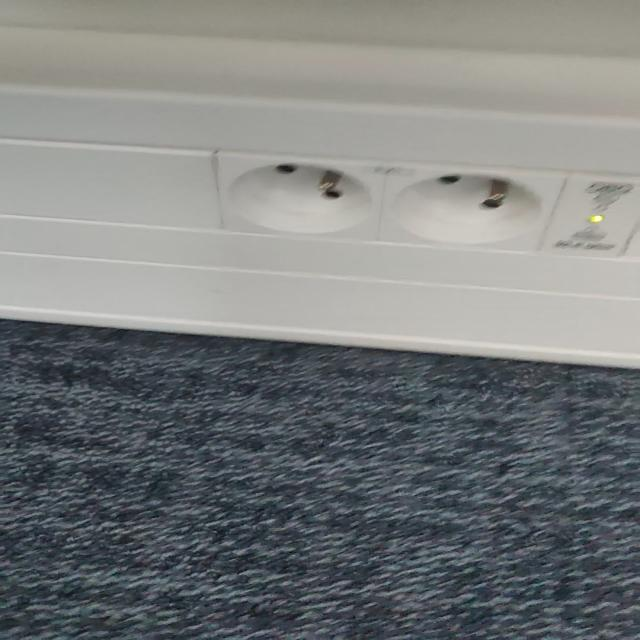house plug: (372, 161, 567, 257), (221, 153, 387, 242)
